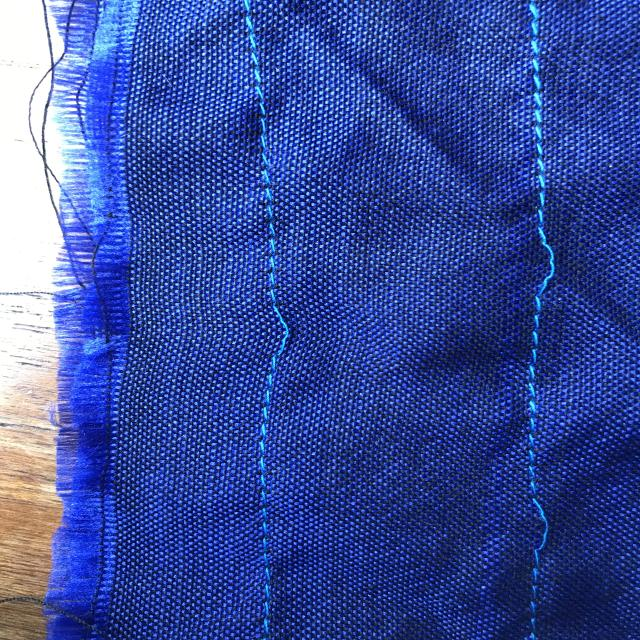skip: (505, 472, 576, 572), (239, 275, 309, 369), (510, 214, 574, 308)
